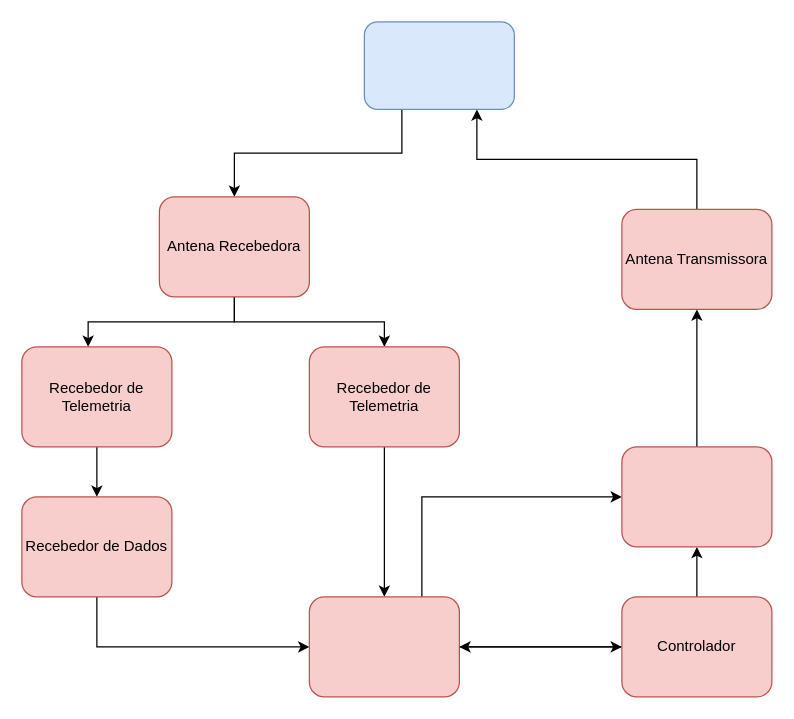
Image size: 794x719. Some labels were removed from this diagram. Each missing label, with the centre of its shape:
"Computador para atitude de controle" belongs at point 383,646.
"Satélite" belongs at point 438,65.
"Transmissor de Tele comando" belongs at point 696,496.
